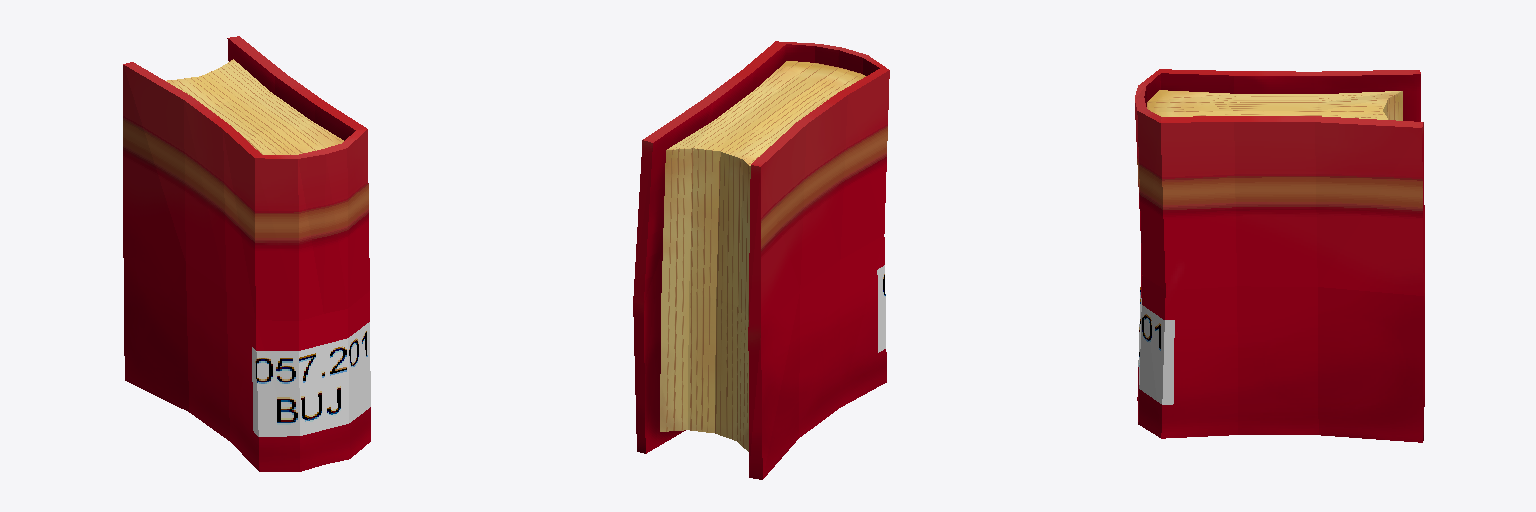
The picture shows the model from 3 angles: view 1: azimuth 30°, elevation 25°; view 2: azimuth 150°, elevation 25°; view 3: azimuth 270°, elevation 25°; orthographic projection.
Visible parts, largest first — view 1: Cover.001, Pages.002; view 2: Cover.001, Pages.002; view 3: Cover.001, Pages.002.
Part boxes in pixels (x1,y1,x2,y2): Cover.001: (123, 36, 370, 471); Pages.002: (166, 59, 343, 154); Cover.001: (633, 41, 889, 479); Pages.002: (660, 61, 865, 451); Cover.001: (1135, 69, 1424, 442); Pages.002: (1147, 90, 1402, 120).
Size of the model in its own units: 2.93 by 7.05 by 5.85.
Materials: 2 (2 with a texture image).